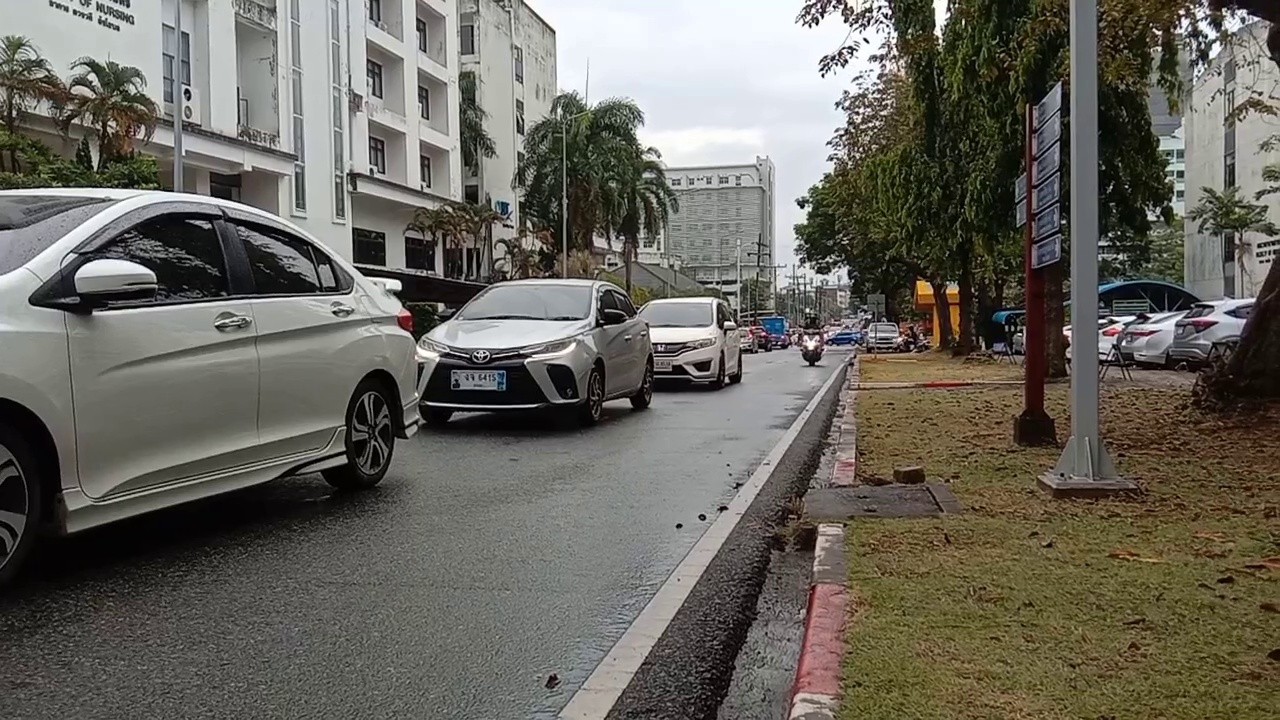License Plate: (449, 369, 505, 391)
